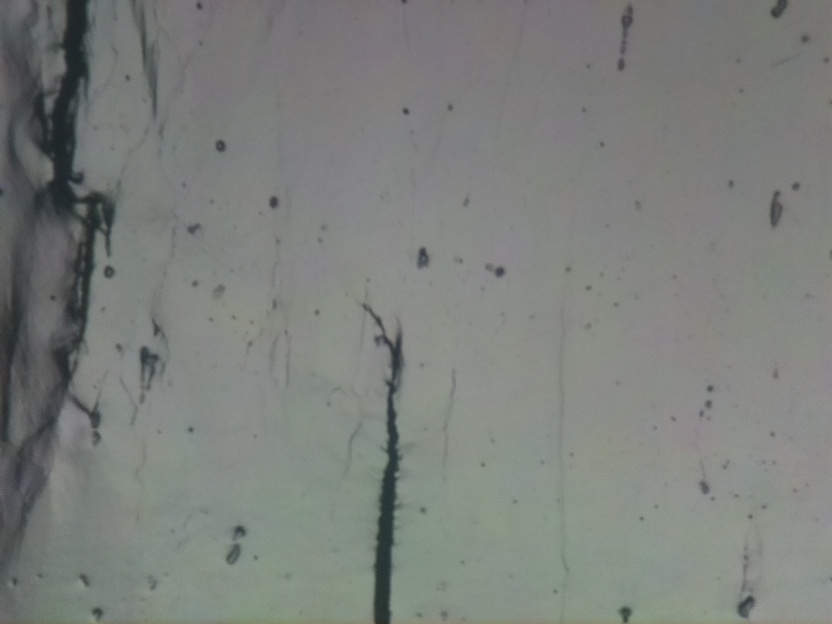crack: (43, 0, 109, 424), (364, 306, 411, 624)
